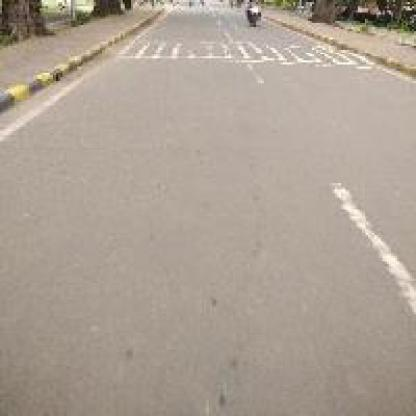Speed Bump: (114, 37, 378, 68)
